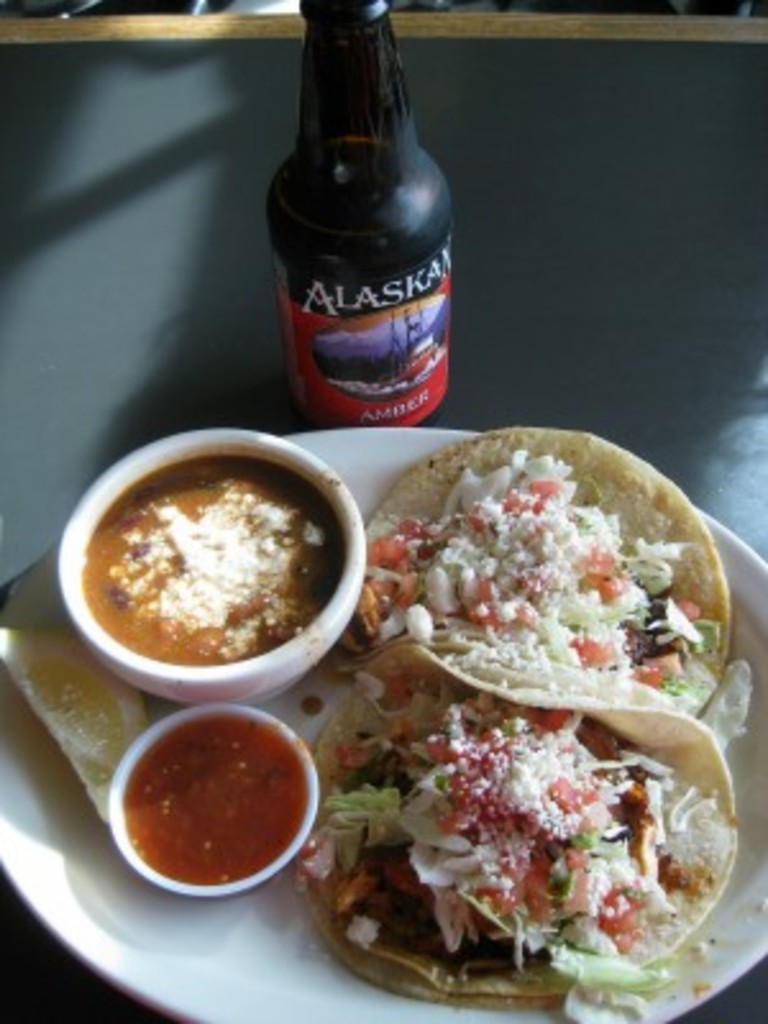taco: (294, 617, 740, 993)
